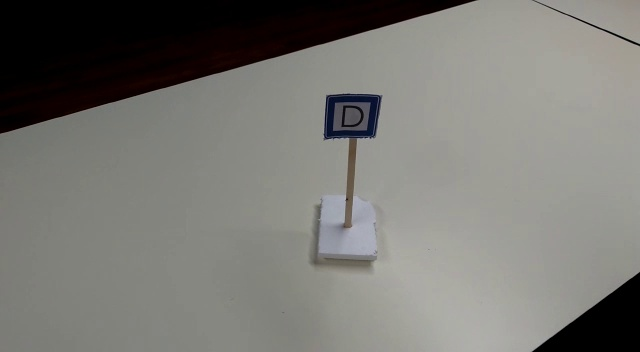durak: (323, 94, 381, 137)
